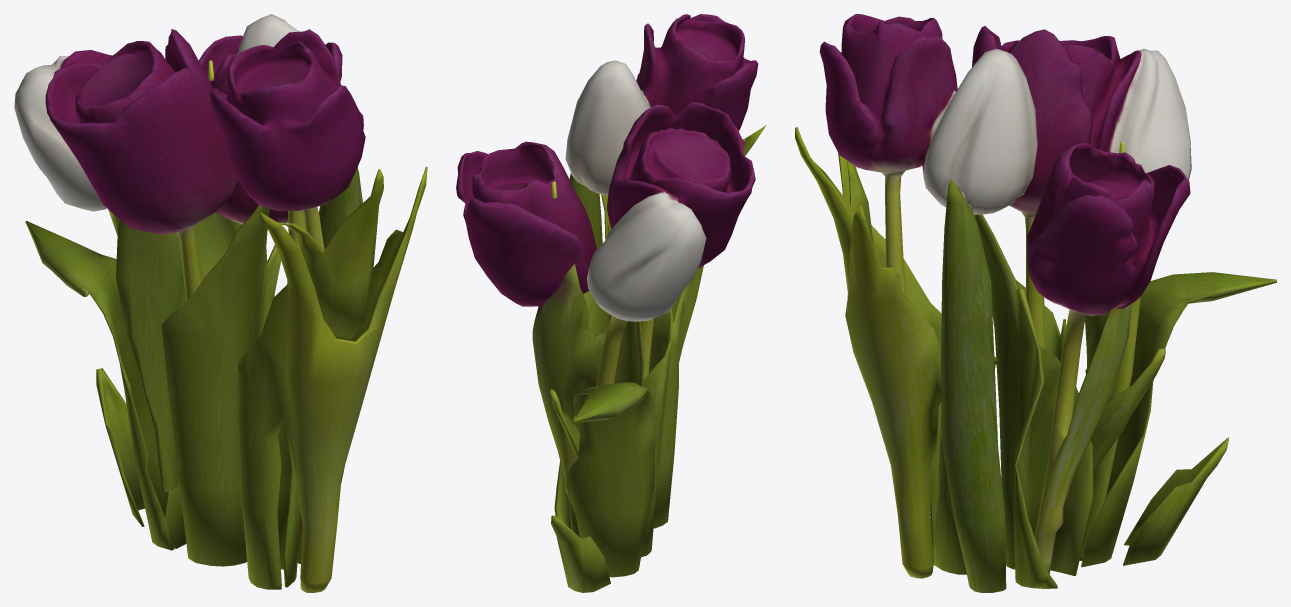
The model's file is bouquet_tulips.glb.
3 views of the same model, side by side, from view 1: azimuth 30°, elevation 25°; view 2: azimuth 150°, elevation 25°; view 3: azimuth 270°, elevation 25° (orthographic). The views are drawn at different scales.
Parts seen in each view (by area): view 1: tripo_node_52a4ac03-274e-4336-8305-f40276000f92; view 2: tripo_node_52a4ac03-274e-4336-8305-f40276000f92; view 3: tripo_node_52a4ac03-274e-4336-8305-f40276000f92.
Boxes of the visible parts, left/top/right/bottom form: tripo_node_52a4ac03-274e-4336-8305-f40276000f92: left=14, top=14, right=427, bottom=592; tripo_node_52a4ac03-274e-4336-8305-f40276000f92: left=456, top=14, right=766, bottom=592; tripo_node_52a4ac03-274e-4336-8305-f40276000f92: left=795, top=14, right=1276, bottom=592.
Size of the model in its own units: 0.5754 by 0.9966 by 0.8055.
Materials: 1 (1 with a texture image).
